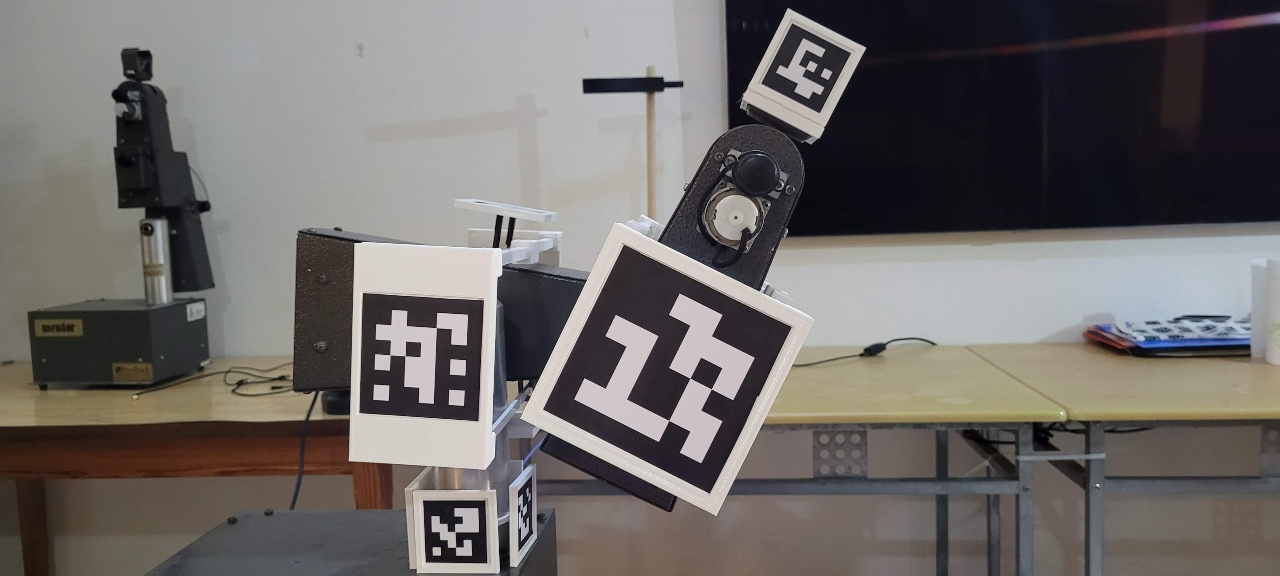Robot: (294, 5, 868, 576)
